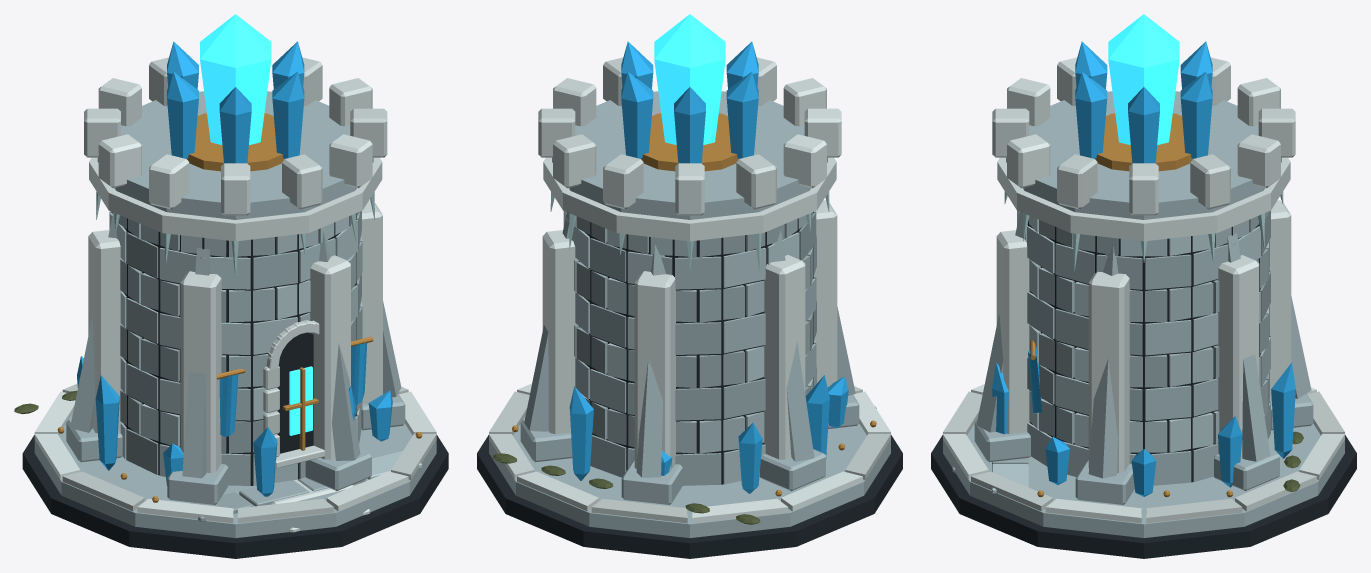
The model's file is frost__cristalina__L15.glb.
The picture shows the model from 3 angles, left to right: view 1: azimuth 30°, elevation 25°; view 2: azimuth 150°, elevation 25°; view 3: azimuth 270°, elevation 25°; orthographic projection.
Parts seen in each view (by area): view 1: structure, weapon, banners; view 2: structure, weapon; view 3: structure, weapon, banners.
Part boxes in pixels (bbox=[...]): structure: bbox=[14, 57, 448, 558]; weapon: bbox=[167, 14, 304, 171]; banners: bbox=[216, 336, 373, 436]; structure: bbox=[477, 57, 902, 558]; weapon: bbox=[621, 14, 758, 171]; structure: bbox=[931, 57, 1356, 558]; weapon: bbox=[1075, 14, 1212, 171]; banners: bbox=[1028, 339, 1041, 413].
Size of the model in its own units: 0.8624 by 1.02 by 0.8624.
